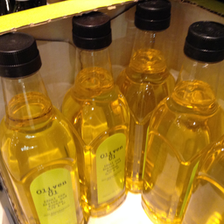oil: (1, 33, 90, 224), (140, 21, 224, 221), (58, 11, 131, 217)
